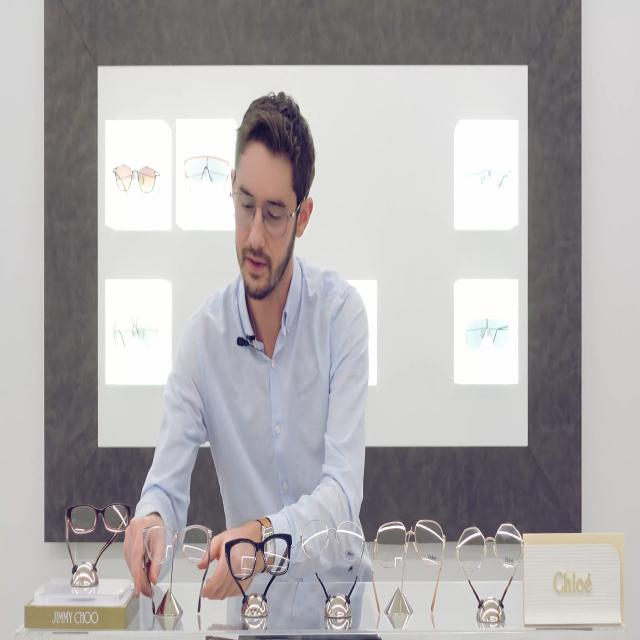dress: (133, 258, 370, 582)
glasses: (234, 187, 288, 236)
